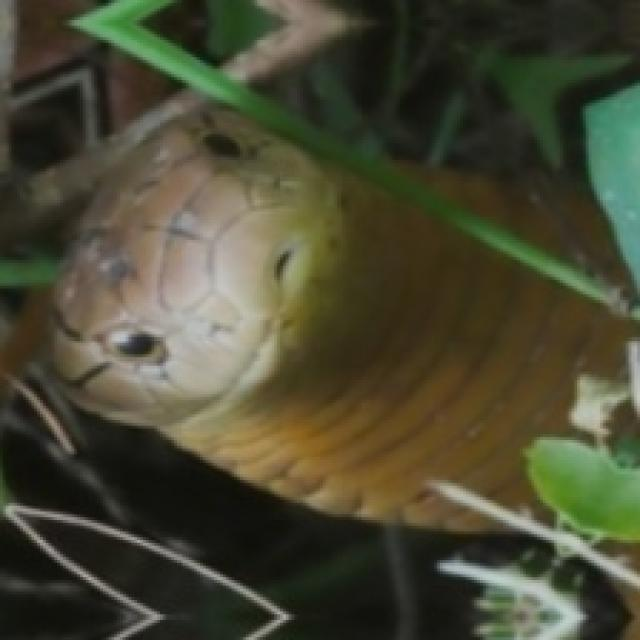king cobra: (0, 94, 637, 637), (414, 137, 634, 300), (266, 17, 417, 137)
